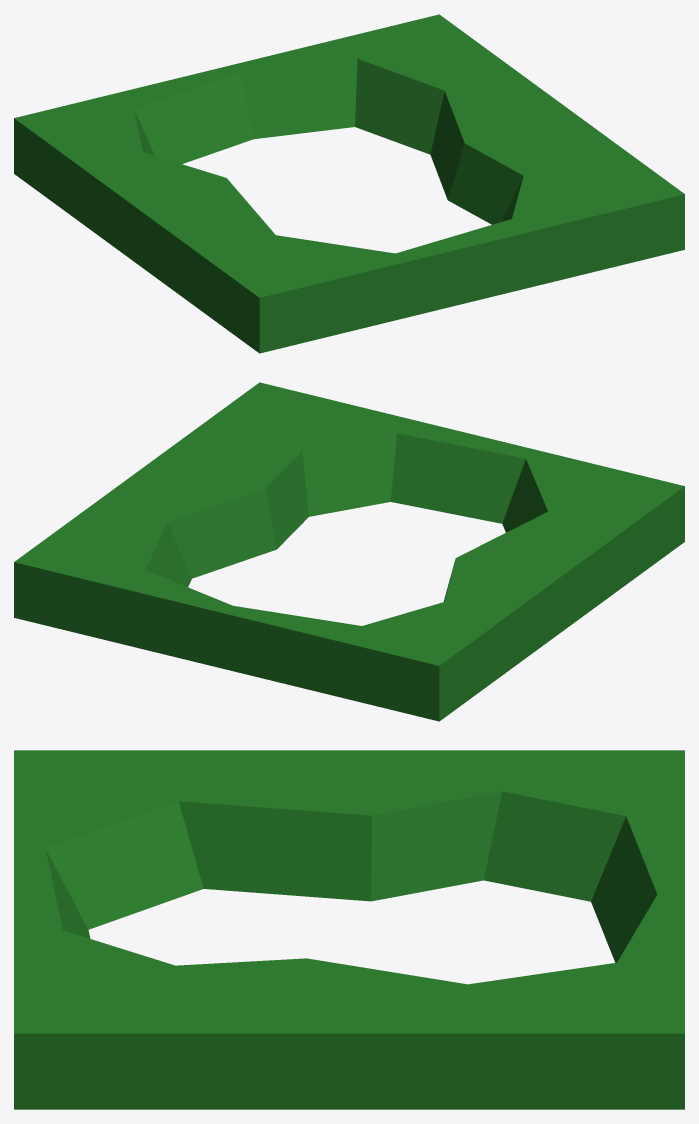
Rendered from floor_hole_001.fbx.
3 renders of one model, top to bottom at view 1: azimuth 30°, elevation 25°; view 2: azimuth 150°, elevation 25°; view 3: azimuth 270°, elevation 25°, orthographic. The views are drawn at different scales.
Parts seen in each view (by area): view 1: floor.hole; view 2: floor.hole; view 3: floor.hole.
Part boxes in pixels (x1,y1,x2,y2): floor.hole: (14,14,684,353); floor.hole: (14,382,684,721); floor.hole: (14,750,684,1109).
Bounding box in the file's own units: 400 × 50 × 400.
